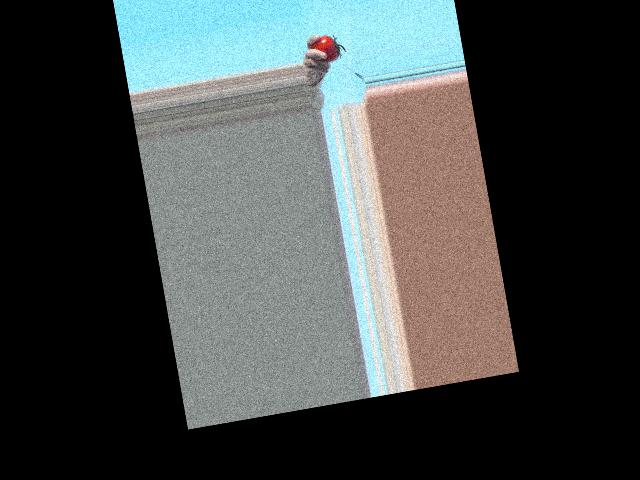tomato: (309, 32, 341, 64)
